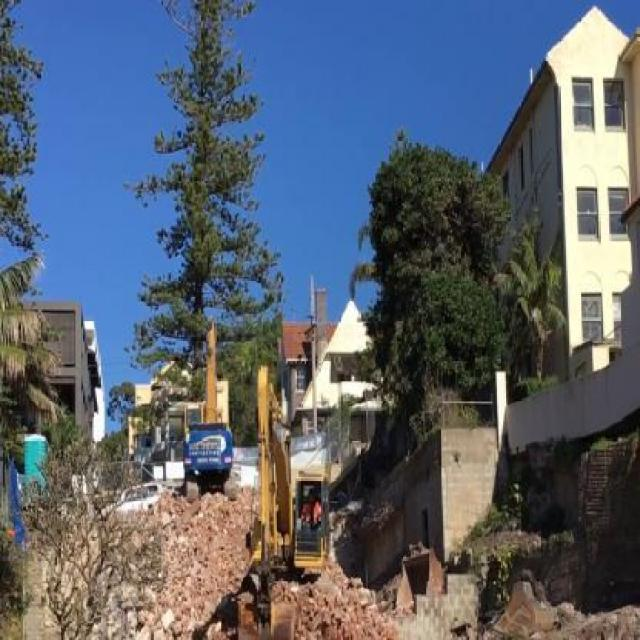Excavator: (237, 358, 332, 639), (181, 315, 239, 502)
